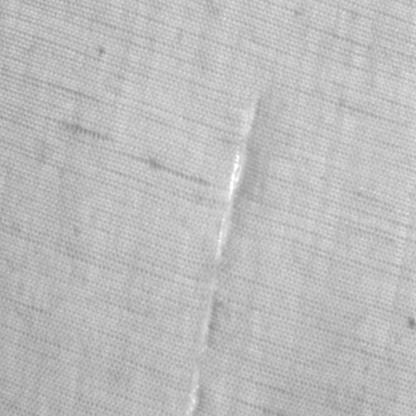thread error: (191, 90, 263, 416)
